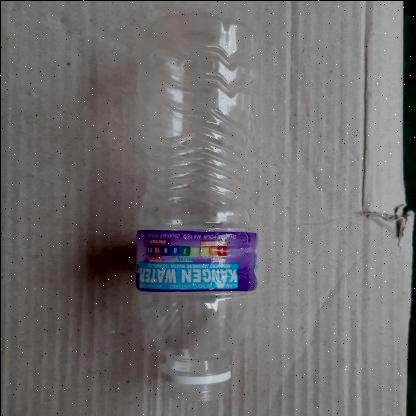Plastic Bottle: (132, 11, 258, 400)
